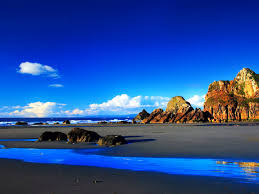beach: (1, 117, 259, 189)
mountain: (136, 69, 259, 127)
sky: (2, 3, 202, 107)
